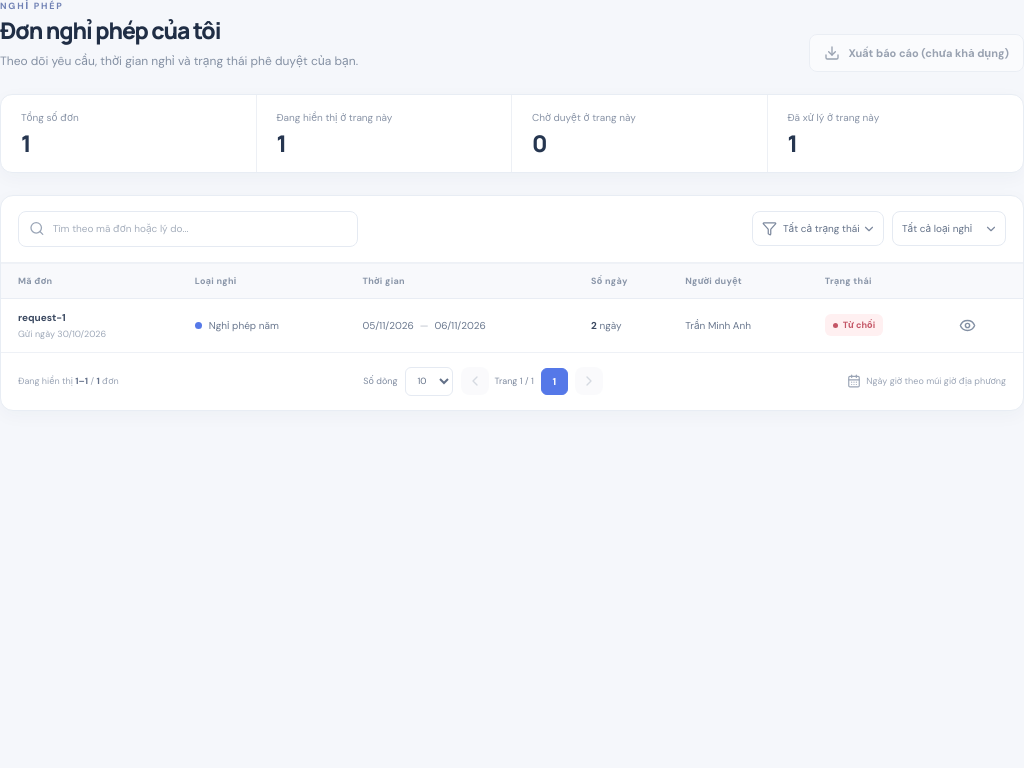
Test case: LeaveRequestsPage › loads request and history together and renders the timeline details
This screenshot has width=1024, height=768.
Click the button named "Xem chi tiết request-1" at (967, 325), box 953,311 -> 982,340
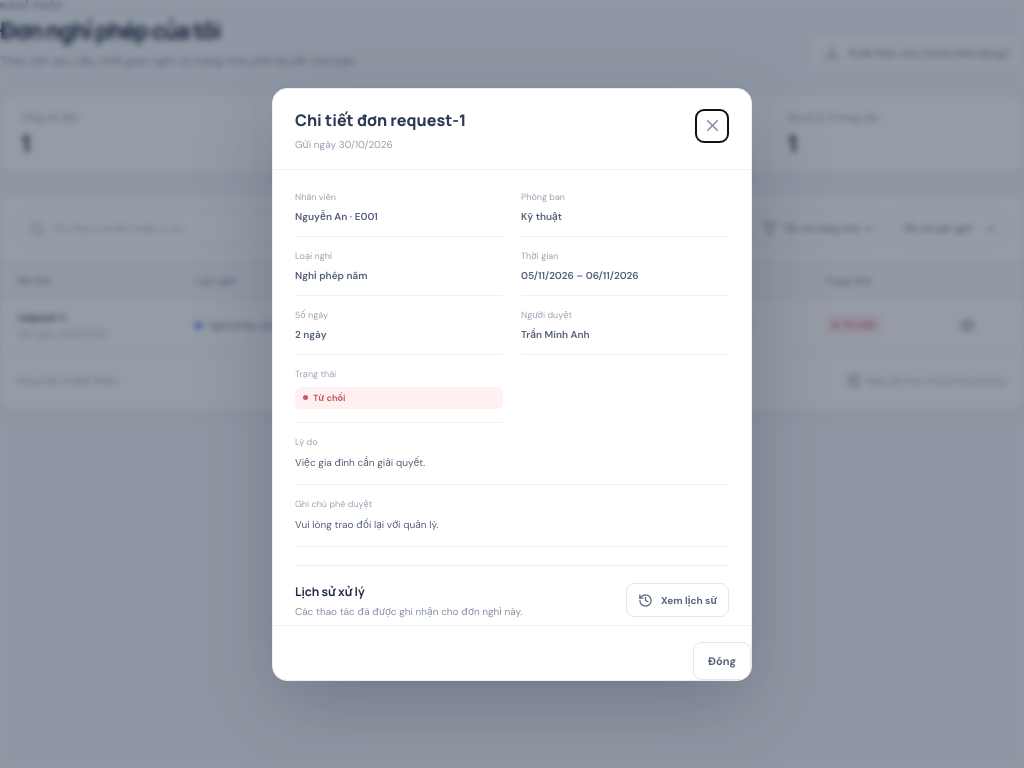
Click the button "Xem lịch sử" at (678, 600), box 626,583 -> 729,617
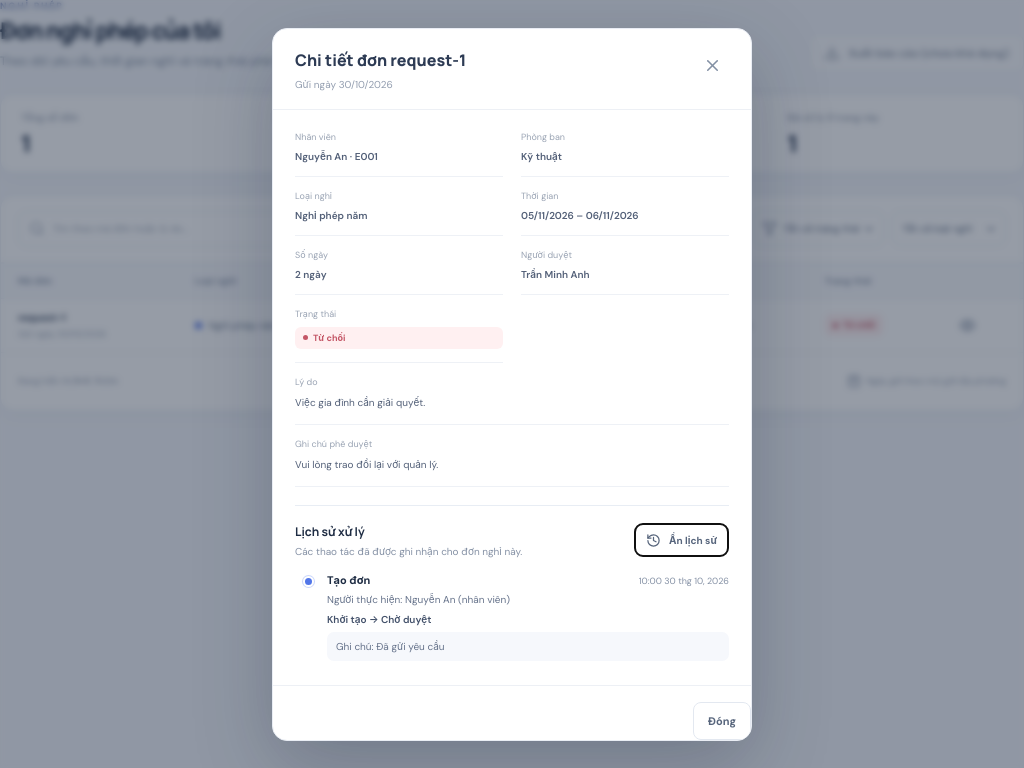
expect the text "Tạo đơn" is shown: met, box 327,572 -> 370,586
expect the text "Người thực hiện: Nguyễn An (nhân viên)" is shown: met, box 327,592 -> 510,606
expect the element showing "Khởi tạo → Chờ duyệt" is shown: met, box 327,612 -> 431,626
